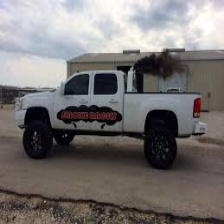smoke: (132, 51, 179, 77)
